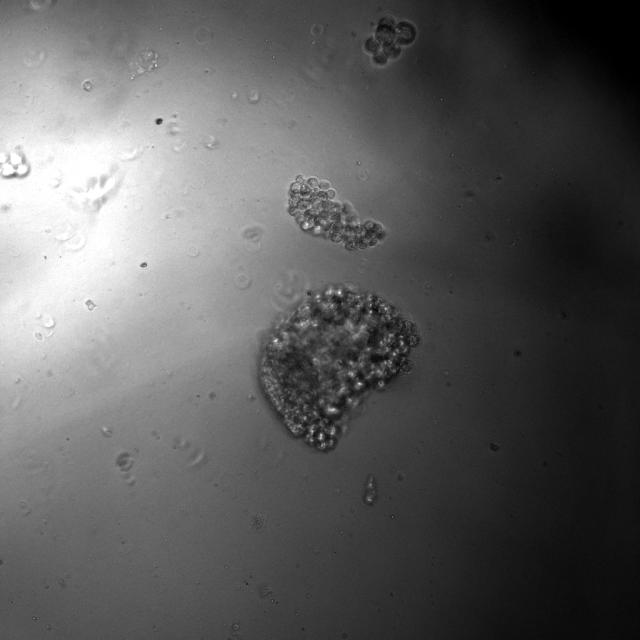organoid: (259, 287, 419, 450), (288, 175, 385, 250), (363, 15, 416, 66), (0, 147, 29, 177), (363, 474, 379, 505)
